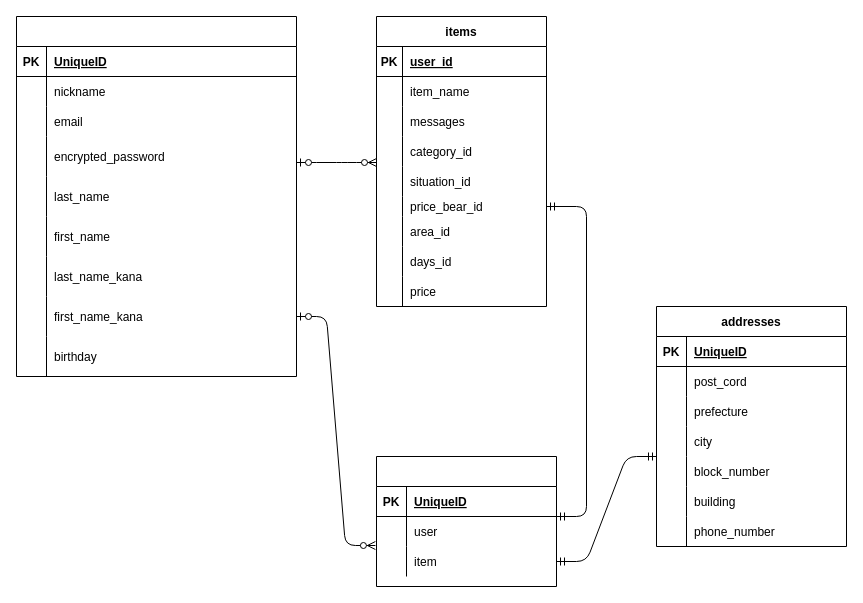
Image size: 863x603. Some labels were removed from this diagram. The box of each missing label's shape, as (x1, y1, x2, y2) in pixels:
purchases: (376, 456, 556, 586)
users: (16, 16, 296, 376)
